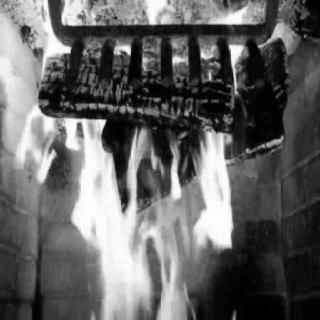Fire: (9, 2, 296, 320)
